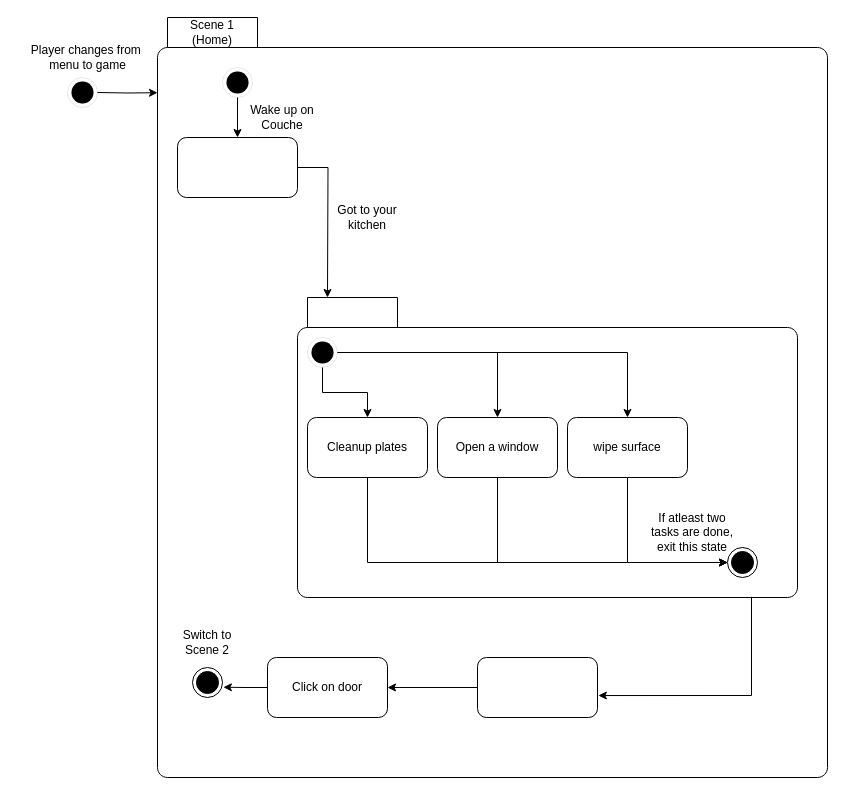
Image size: 845x795. Some labels were removed from this diagram. The box of each missing label's shape, as (x1, y1, x2, y2) in pixels:
Cleanup kitchen: (296, 296, 798, 598)
Take clothes from bedroom: (476, 656, 598, 718)
Walk around inside the house: (176, 136, 298, 198)
